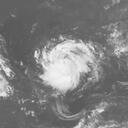cyclone: (39, 38, 91, 94)
